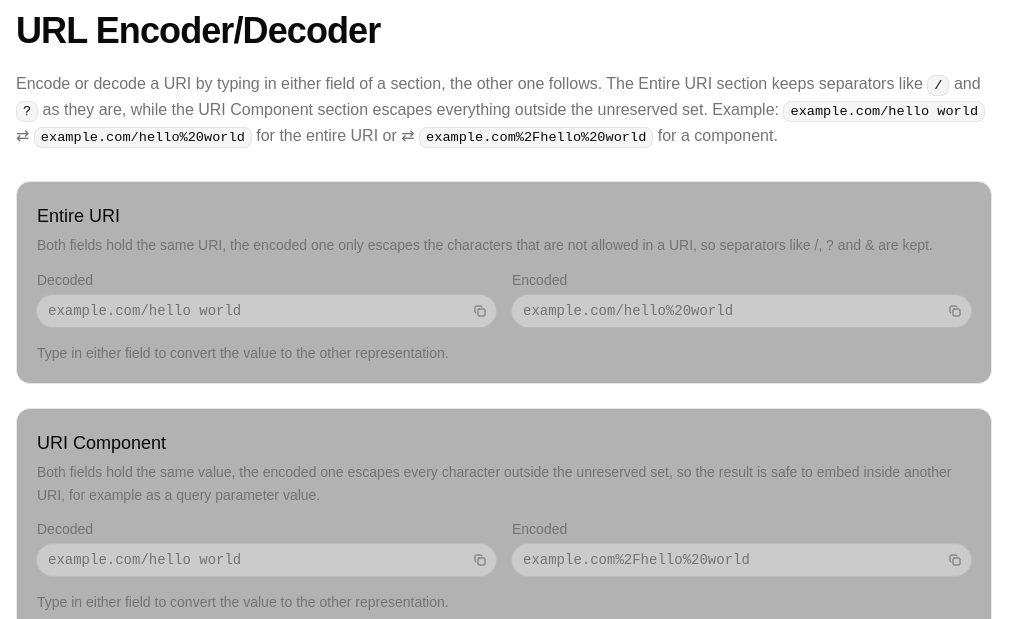
Test: URLEncoderDecoder › encodes an entire URI keeping its separators
This screenshot has width=1009, height=619.
Type "example.com/hello world?x=a&y=b" into the 1st field labelled "Decoded" at [253, 311], box [38,295,468,327]
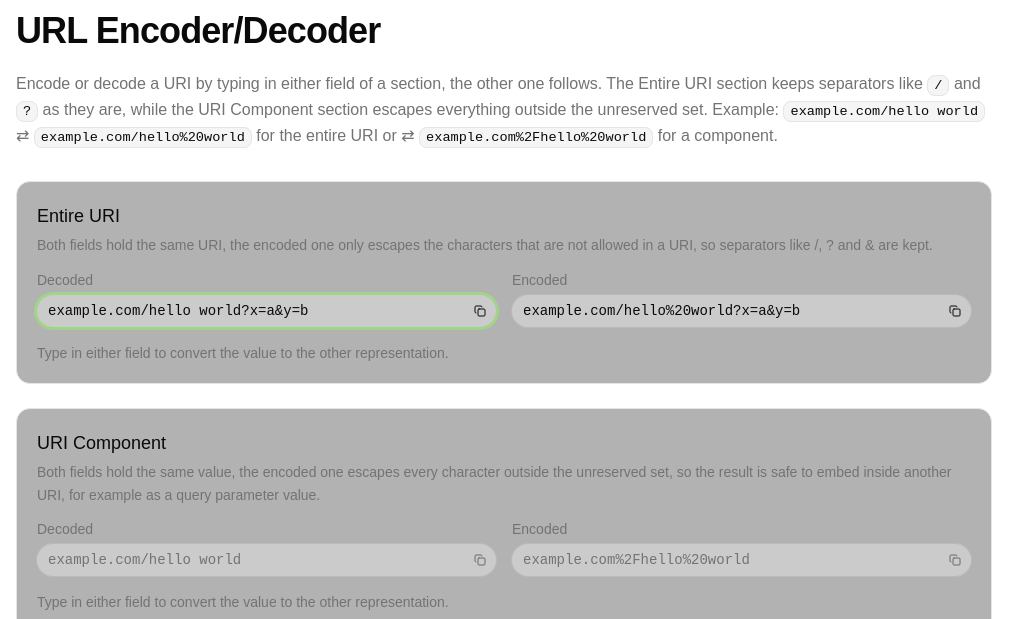
Expected: the 1st field labelled "Encoded" holds "example.com/hello%20world?x=a&y=b", [513,295,943,327]
